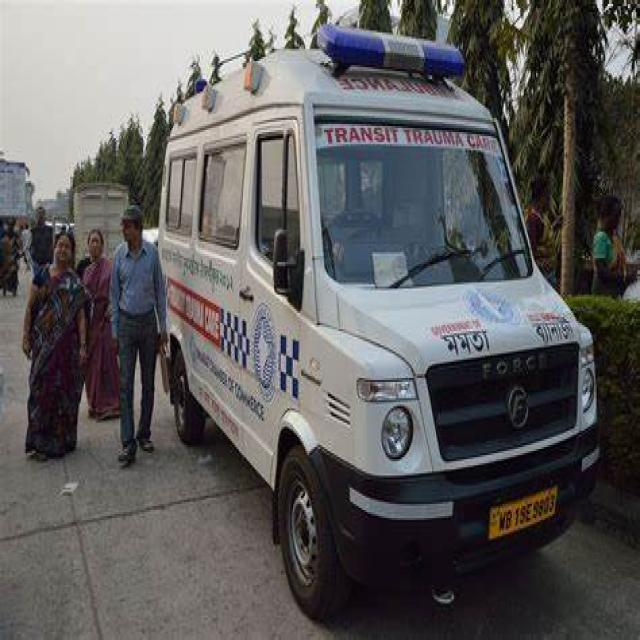ambulance: (311, 25, 464, 87)
